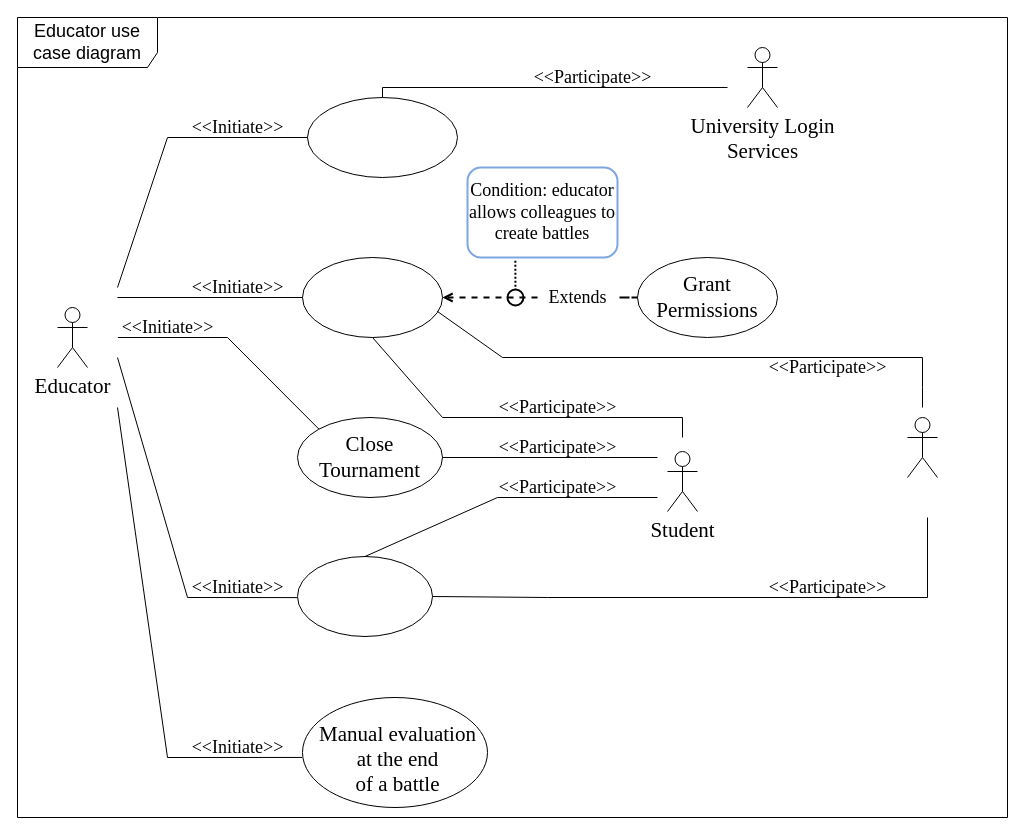
This 1025x835 diagram has some shape labels left out. The box of each missing label's shape, as (x1, y1, x2, y2) in pixels:
Create Battle: (296, 556, 432, 636)
Create Tournament: (302, 256, 442, 338)
Email Service: (906, 416, 938, 478)
Registration and Login: (306, 96, 458, 178)
